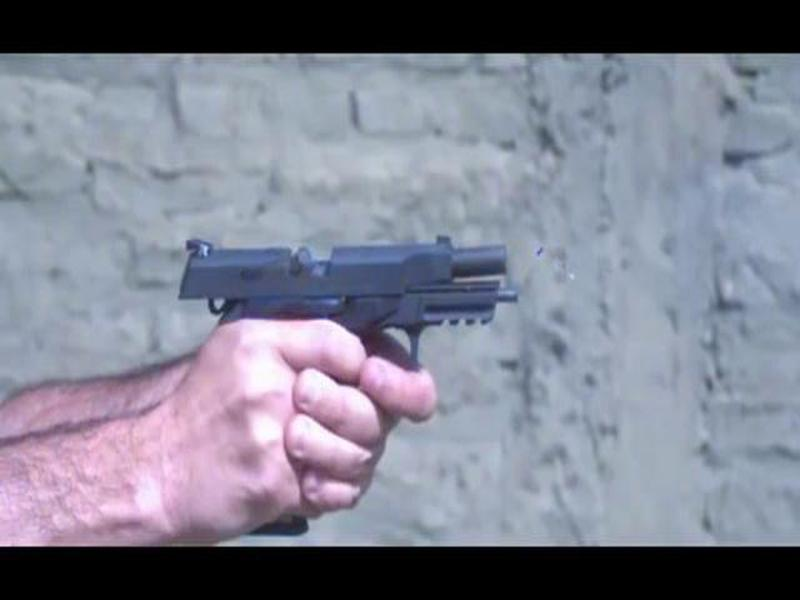Pistola: (167, 183, 521, 382)
